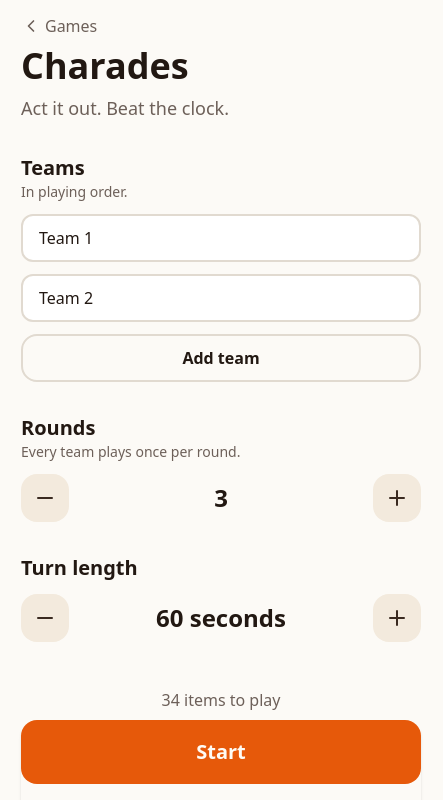
Test case: setup screen › starts with two teams and the default settings, and Start begins the game and remembers the teams
expect the field named "Team 2" holds "Team 2": met, box [21,274,421,322]
expect the text "3" is shown: met, box [214,482,228,514]
Replace the text in the field named "Team 1" with "Lions". click: (221, 238)
box: [21,214,421,262]
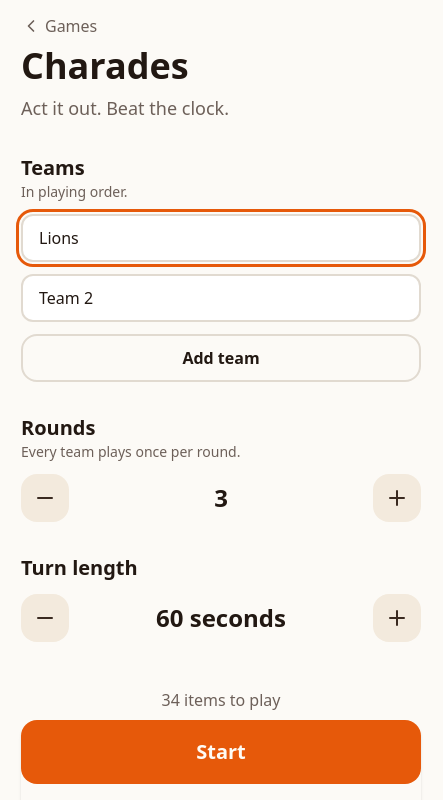
Click the button "Start". click: (221, 752)
box: [21,720,421,784]
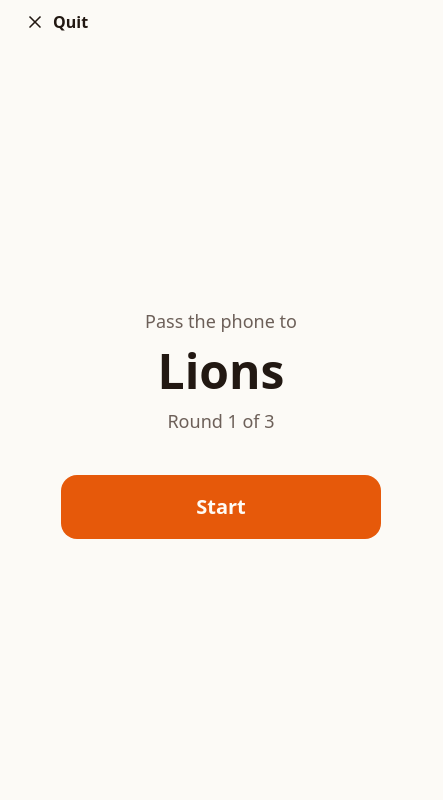
expect the text "Pass the phone to" is shown: met, box [145,307,297,335]
expect the heading "Lions" is shown: met, box [158,338,284,403]
